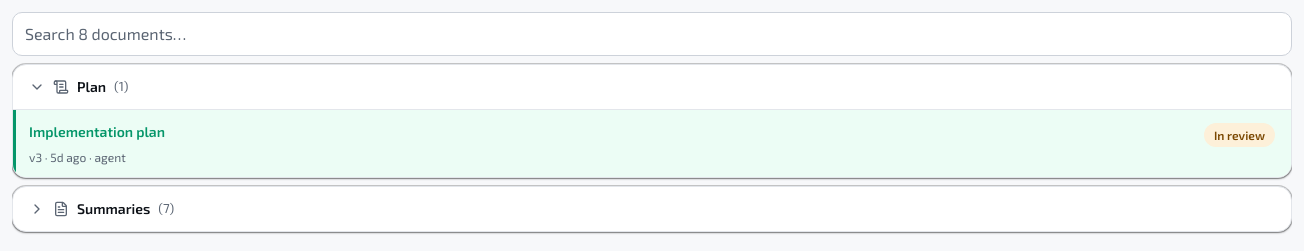
DocumentList › shows an empty-state message when the search matches nothing
Type "nonexistent-doc" into the search field named "search documents" at (652, 34), box [12,12,1292,56]
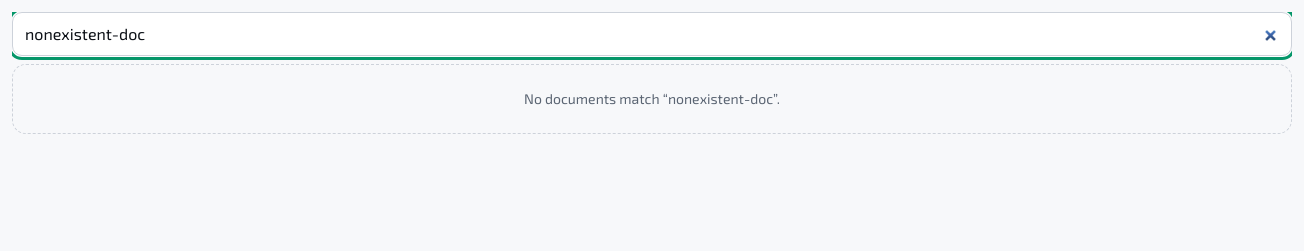
Expected: no links are shown
Expected: the text "No documents match “nonexistent-doc”." is shown, [12,64,1292,134]
